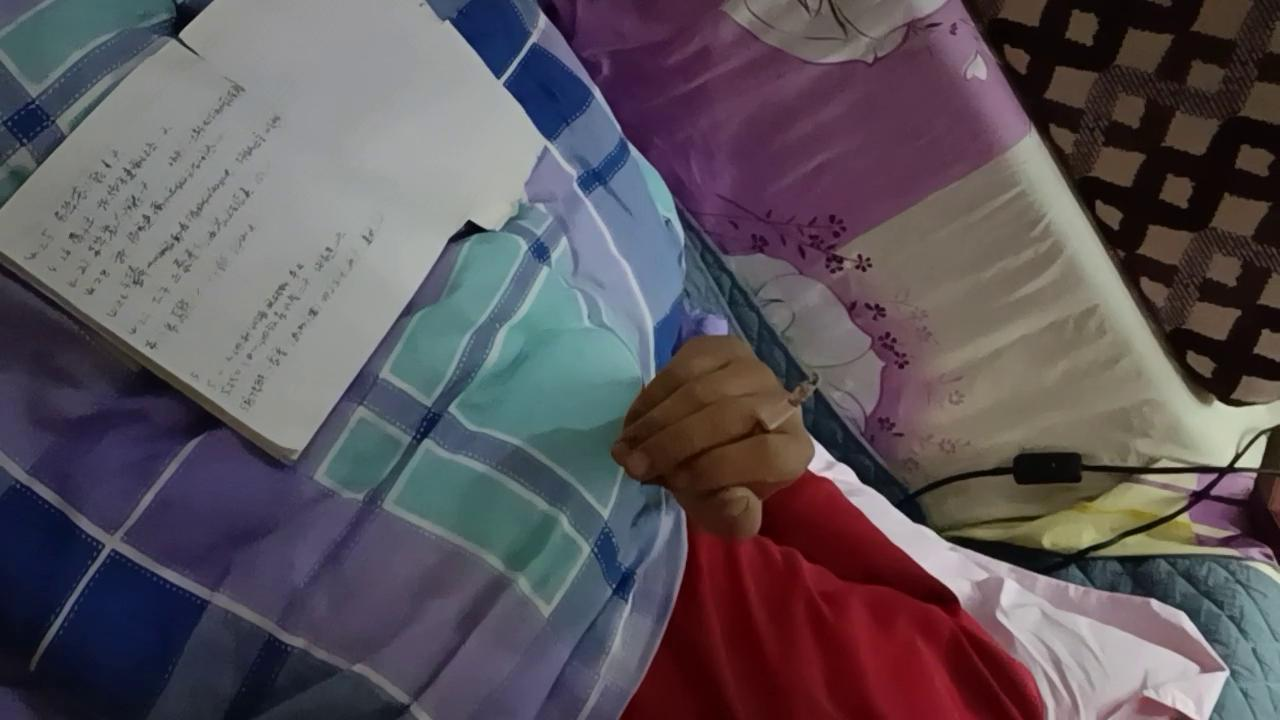smoke: (742, 373, 822, 446)
